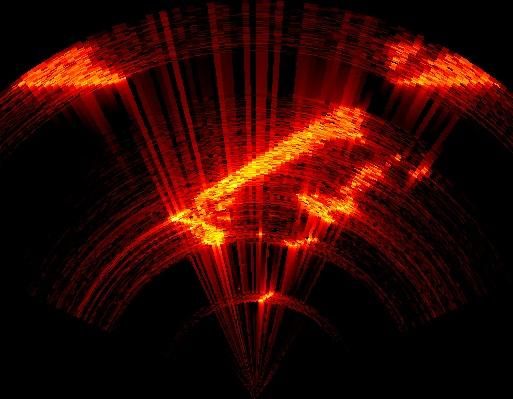shipwreck: (171, 106, 363, 243), (297, 166, 382, 224), (19, 47, 125, 88), (394, 55, 502, 93), (392, 43, 419, 71), (284, 236, 316, 246)
